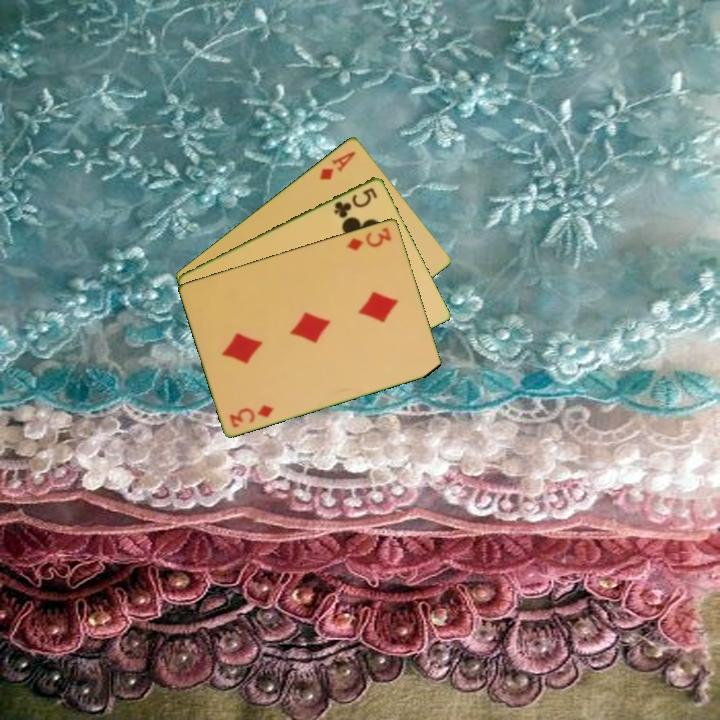3d: (226, 400, 277, 430), (344, 223, 394, 253)
5c: (330, 184, 380, 221)
Ad: (316, 147, 359, 183)
